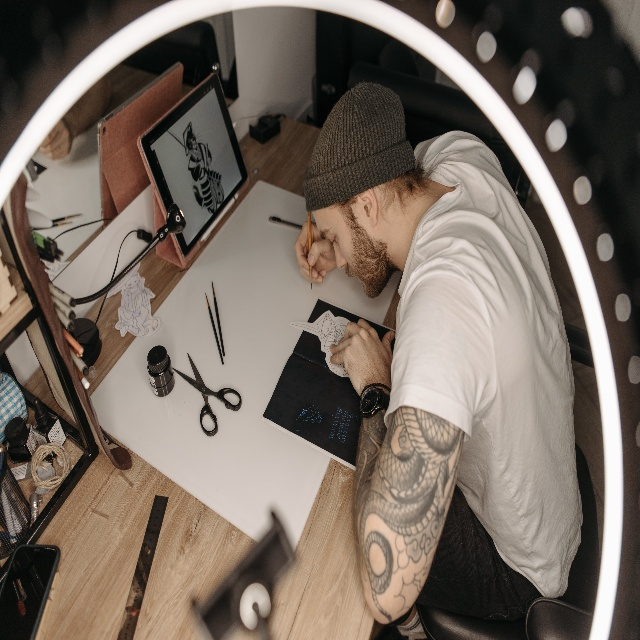Sin_guantes: (329, 318, 395, 395), (293, 219, 337, 285)
